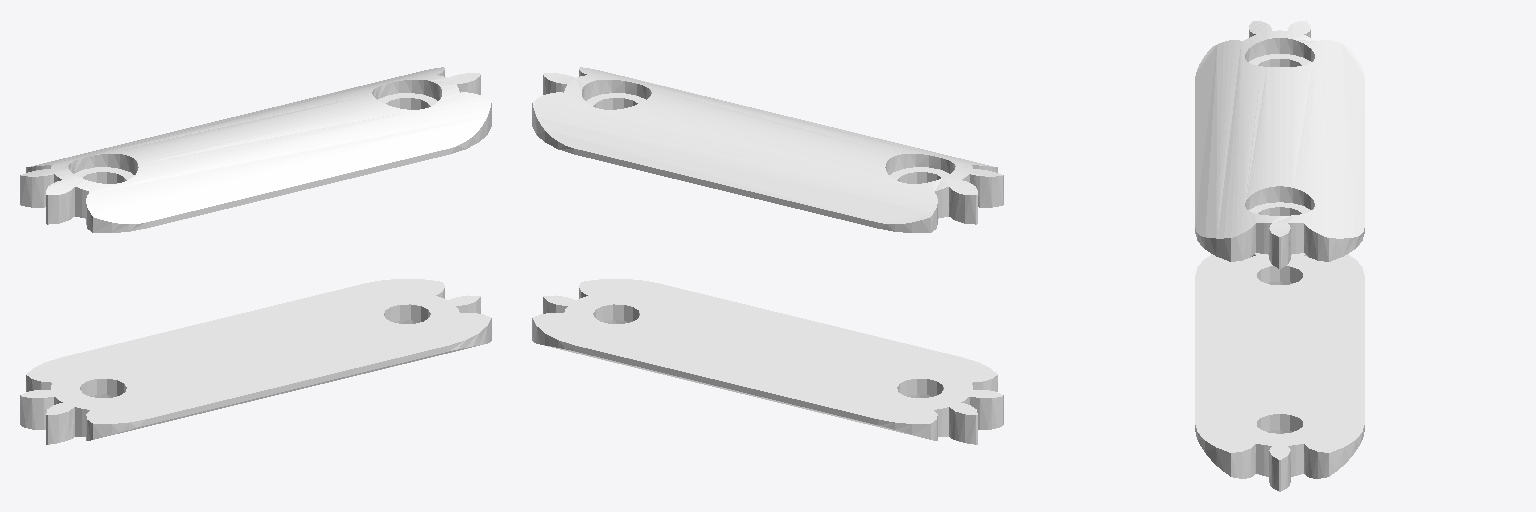
The robot description file, URDF, robot "CSI-200_BoneCuttingToolFullAssy_V4_URDF":
<?xml version="1.0" encoding="utf-8"?>
<!-- This URDF was automatically created by SolidWorks to URDF Exporter! Originally created by [author] ([email redacted]) 
     Commit Version: 1.6.0-1-g15f4949  Build Version: 1.6.7594.29634
     For more information, please see http://wiki.ros.org/sw_urdf_exporter -->
<robot
  name="CSI-200_BoneCuttingToolFullAssy_V4_URDF">
  <link
    name="base_link">
    <inertial>
      <origin
        xyz="-0.195542761308929 -0.0543004566173789 -0.00311358705126816"
        rpy="0 0 0" />
      <mass
        value="2.82497847633582" />
      <inertia
        ixx="0.000691365018399165"
        ixy="-7.21989726832368E-06"
        ixz="-8.28623313768042E-06"
        iyy="0.00220366922516715"
        iyz="9.93940688552824E-06"
        izz="0.0021607307802539" />
    </inertial>
    <visual>
      <origin
        xyz="0 0 0"
        rpy="0 0 0" />
      <geometry>
        <mesh
          filename="package://CSI-200_BoneCuttingToolFullAssy_V4_URDF/meshes/base_link.STL" />
      </geometry>
      <material
        name="">
        <color
          rgba="1 1 1 1" />
      </material>
    </visual>
    <collision>
      <origin
        xyz="0 0 0"
        rpy="0 0 0" />
      <geometry>
        <mesh
          filename="package://CSI-200_BoneCuttingToolFullAssy_V4_URDF/meshes/base_link.STL" />
      </geometry>
    </collision>
  </link>
  <link
    name="link_1">
    <inertial>
      <origin
        xyz="0.0101457727235753 -1.38937210070189E-08 1.73744119369434E-08"
        rpy="0 0 0" />
      <mass
        value="0.000801545700671476" />
      <inertia
        ixx="4.87957028547107E-09"
        ixy="8.24174385783391E-15"
        ixz="5.49944055996202E-15"
        iyy="4.45101627891487E-08"
        iyz="-2.78849773361008E-15"
        izz="4.8971339648408E-08" />
    </inertial>
    <visual>
      <origin
        xyz="0 0 0"
        rpy="0 0 0" />
      <geometry>
        <mesh
          filename="package://CSI-200_BoneCuttingToolFullAssy_V4_URDF/meshes/link_1.STL" />
      </geometry>
      <material
        name="">
        <color
          rgba="1 1 1 1" />
      </material>
    </visual>
    <collision>
      <origin
        xyz="0 0 0"
        rpy="0 0 0" />
      <geometry>
        <mesh
          filename="package://CSI-200_BoneCuttingToolFullAssy_V4_URDF/meshes/link_1.STL" />
      </geometry>
    </collision>
  </link>
  <joint
    name="Joint_1"
    type="revolute">
    <origin
      xyz="0 0 0"
      rpy="0 0 0" />
    <parent
      link="base_link" />
    <child
      link="link_1" />
    <axis
      xyz="0 0 -1" />
    <limit
      lower="0"
      upper="0"
      effort="0"
      velocity="0" />
  </joint>

      
</robot>

--- What the picture shows (computed from the rendered views, not written in the file) ---
The picture shows the robot from 3 angles, left to right: view 1: azimuth 30°, elevation 25°; view 2: azimuth 150°, elevation 25°; view 3: azimuth 270°, elevation 25°; orthographic projection.
Model CSI-200_BoneCuttingToolFullAssy_V4_URDF with 2 links and 1 joints (1 revolute), rooted at base_link, posed every joint at zero.
Links seen in each view (by area): view 1: link_1; view 2: link_1; view 3: link_1.
Link boxes in pixels (x1,y1,x2,y2): link_1: [20, 67, 491, 444]; link_1: [532, 67, 1003, 444]; link_1: [1195, 21, 1364, 491].
Size in the robot's own frame: 0.0294 by 0.0097 by 0.016 metres.
Meshes: 2 distinct files referenced, 1 mesh visuals loaded (1 binary STL); not drawn: 1 (reference not matched to a file when rendering).